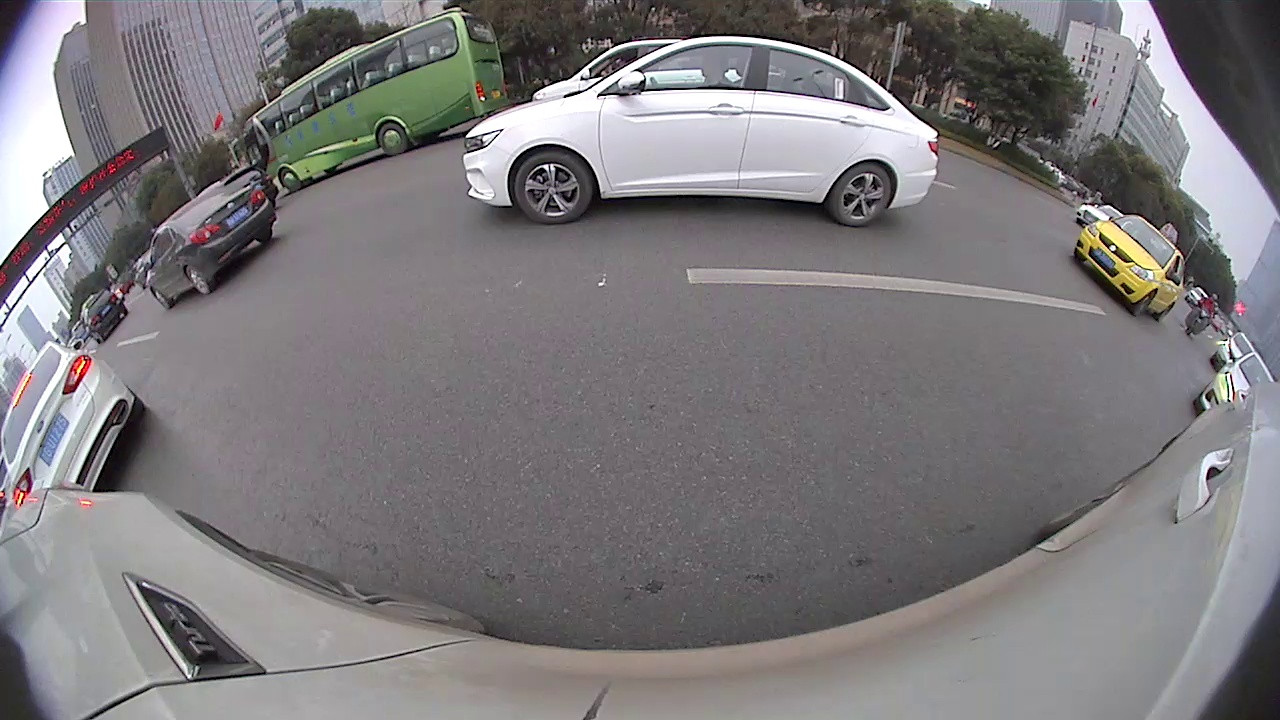bus: (249, 8, 507, 192)
car: (460, 35, 936, 225), (3, 343, 146, 490), (148, 182, 274, 310), (1071, 215, 1185, 323), (528, 41, 686, 100), (1197, 352, 1268, 411), (83, 288, 124, 334), (1210, 331, 1258, 365)
front: (514, 148, 590, 226), (280, 167, 302, 193), (151, 287, 172, 309)
rear: (829, 160, 895, 227), (376, 123, 408, 159), (183, 264, 212, 296)
rider: (1183, 293, 1221, 340)
